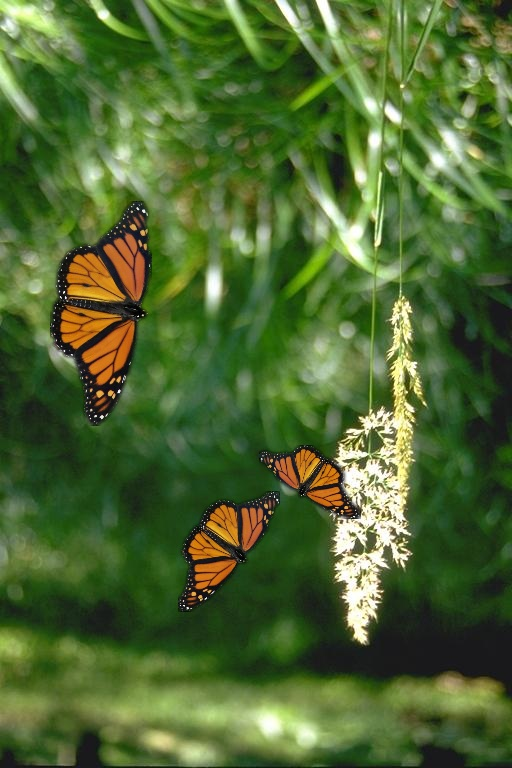danaus_plexippus: (50, 201, 152, 426), (178, 491, 280, 612), (259, 445, 361, 519)
